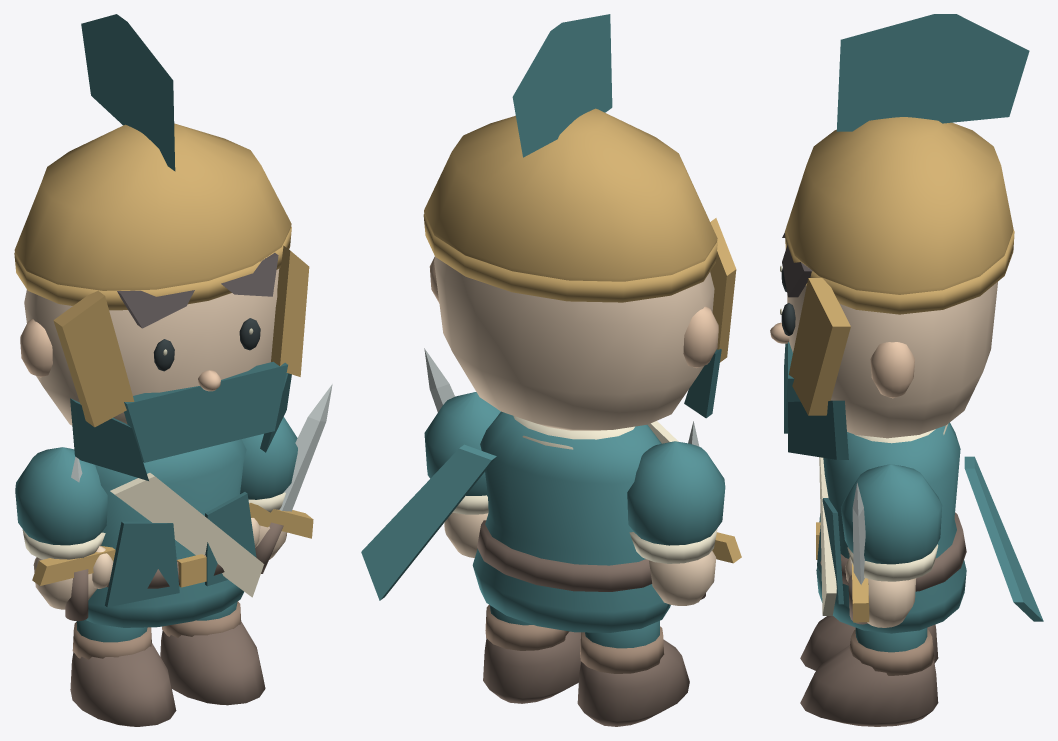
Rendered from assassin.glb.
3 views of the same model, side by side, from view 1: azimuth 30°, elevation 25°; view 2: azimuth 150°, elevation 25°; view 3: azimuth 270°, elevation 25° (orthographic). The views are drawn at different scales.
Visible parts, largest first — view 1: Regional helmet, Soft cheek head, Short folded tunic, Soft face mask, Greek crest, Puff sleeve, Round leather boot, Corinthian cheek, Round leather boot.001, Cream shoulder sash, Coat fold, Corinthian cheek.001 (+22 smaller); view 2: Regional helmet, Soft cheek head, Short folded tunic, Greek crest, Puff sleeve, Long scarf tail, Helmet brow band, Round leather boot, Round leather boot.001, Broad leather belt, Puff sleeve.001, Little mitten (+11 smaller); view 3: Regional helmet, Greek crest, Soft cheek head, Short folded tunic, Puff sleeve.001, Round leather boot.001, Corinthian cheek.001, Helmet brow band, Long scarf tail, Hood cheek cowl R, Ear.001, Little mitten.001 (+11 smaller).
Boxes of the visible parts, box(x1,y1,x2,y2) form: Regional helmet: box(14, 123, 291, 290); Soft cheek head: box(24, 268, 279, 425); Short folded tunic: box(85, 439, 246, 627); Soft face mask: box(124, 361, 287, 462); Greek crest: box(81, 14, 175, 171); Puff sleeve: box(15, 447, 107, 545); Round leather boot: box(70, 643, 176, 726); Corinthian cheek: box(53, 291, 134, 427); Round leather boot.001: box(160, 621, 265, 705); Cream shoulder sash: box(110, 473, 264, 597); Coat fold: box(105, 521, 179, 607); Corinthian cheek.001: box(271, 245, 309, 376); Regional helmet: box(424, 108, 717, 281); Soft cheek head: box(434, 257, 714, 430); Short folded tunic: box(472, 411, 670, 632); Greek crest: box(512, 14, 612, 157); Puff sleeve: box(627, 441, 725, 545); Long scarf tail: box(361, 444, 496, 600); Helmet brow band: box(423, 214, 717, 302); Round leather boot: box(577, 639, 689, 726); Round leather boot.001: box(483, 631, 580, 703); Broad leather belt: box(477, 520, 652, 591); Puff sleeve.001: box(424, 392, 500, 495); Little mitten: box(649, 550, 716, 605); Regional helmet: box(786, 117, 1013, 294); Greek crest: box(836, 14, 1029, 131); Soft cheek head: box(787, 282, 997, 438); Short folded tunic: box(816, 422, 966, 633); Puff sleeve.001: box(841, 464, 942, 564); Round leather boot.001: box(800, 645, 938, 726); Corinthian cheek.001: box(788, 278, 850, 415); Helmet brow band: box(784, 229, 1014, 314); Long scarf tail: box(964, 456, 1043, 621); Hood cheek cowl R: box(788, 400, 848, 459); Ear.001: box(870, 342, 914, 398); Little mitten.001: box(867, 578, 916, 627).
Size of the model in its own units: 0.8627 by 1.83 by 0.674.
